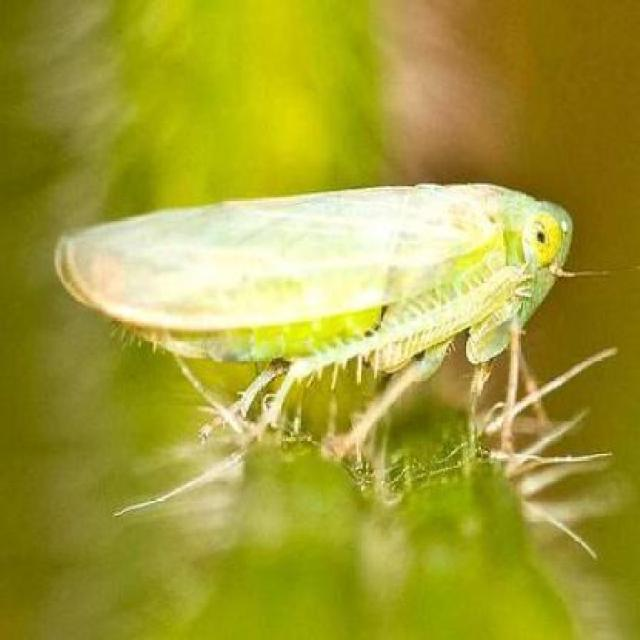green-leafhopper: (53, 179, 570, 436)
